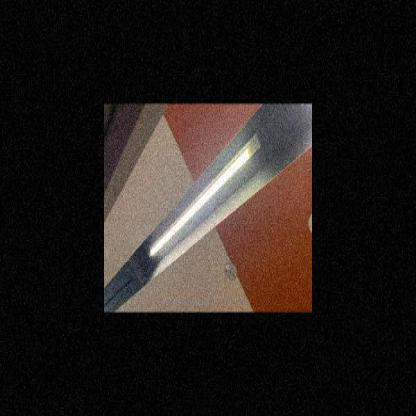light_on: (144, 128, 264, 263)
